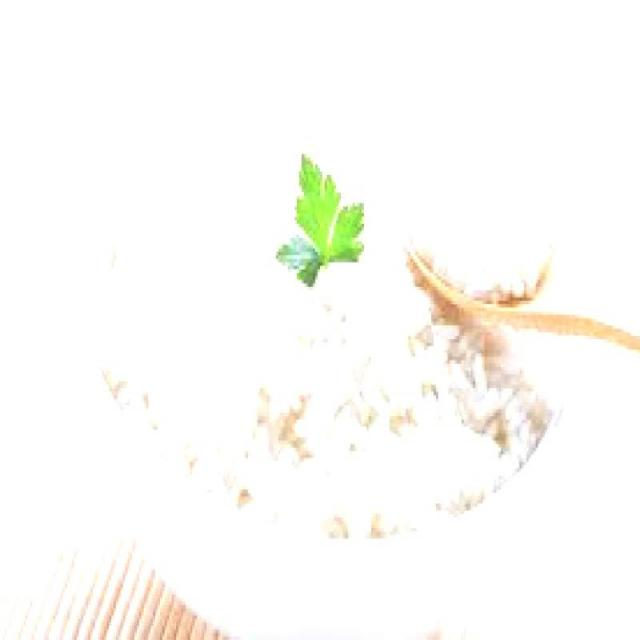rice: (94, 83, 557, 542)
